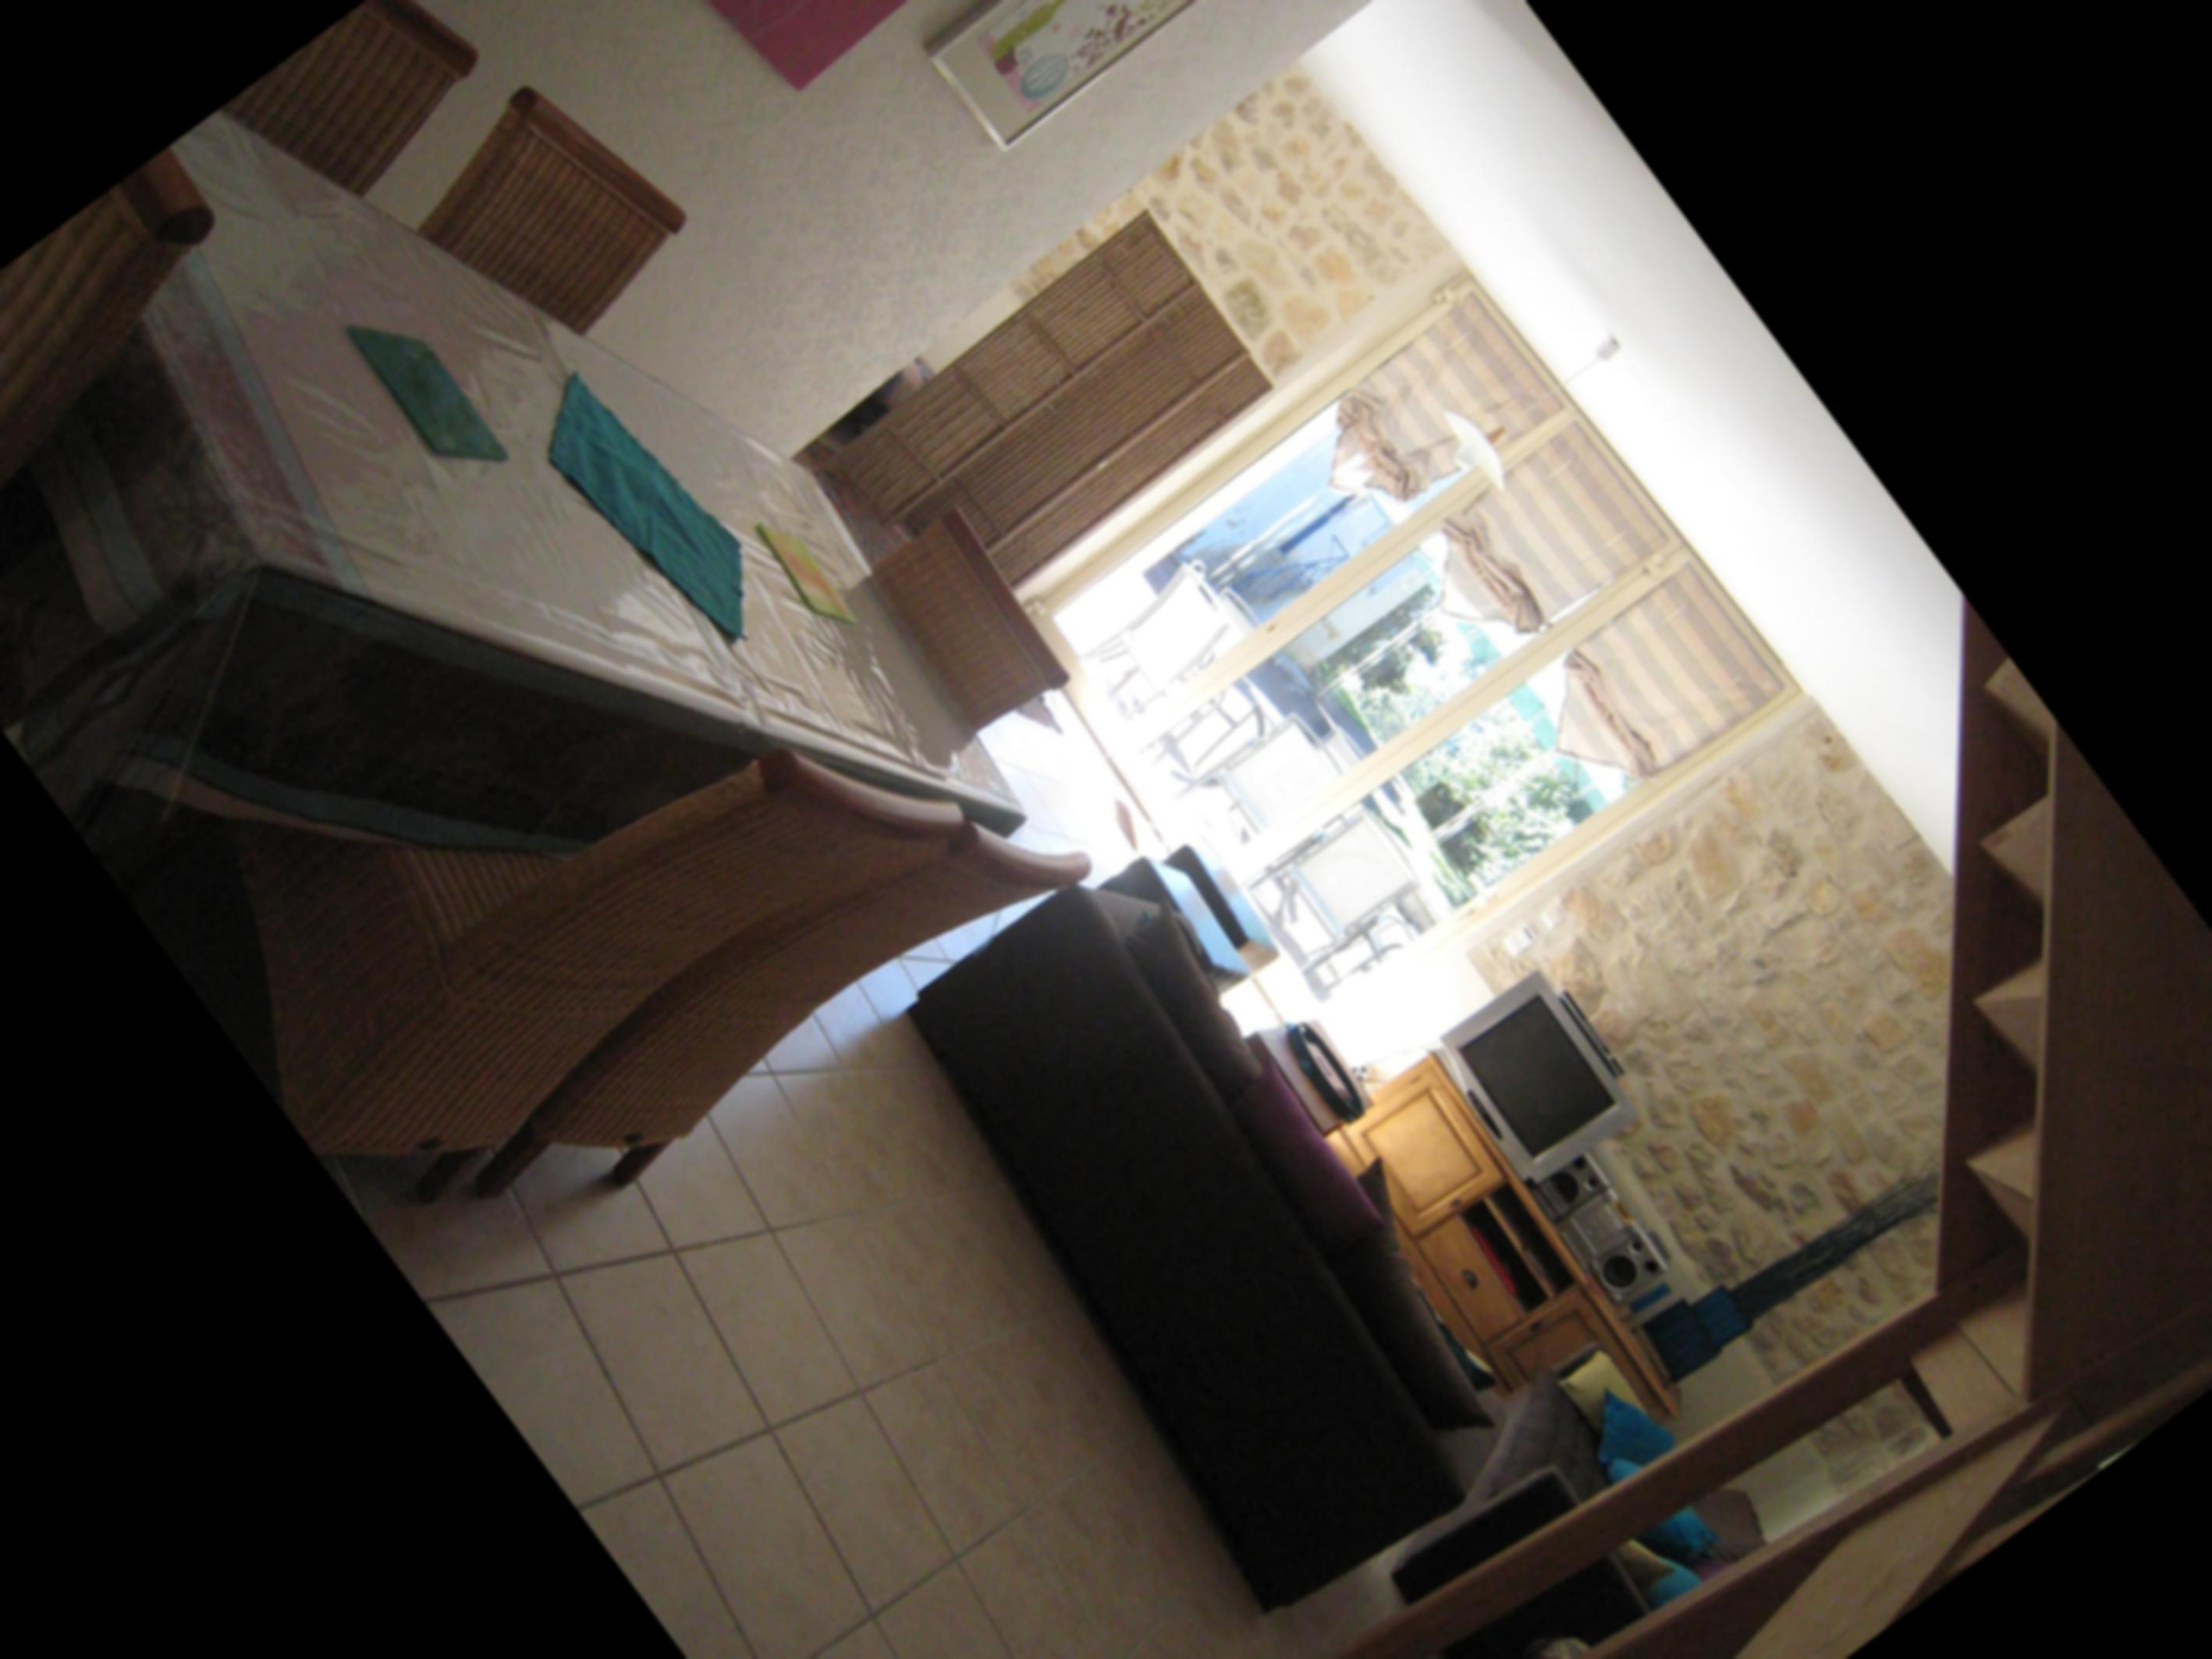Escaleras: (1608, 610, 2212, 1469)
